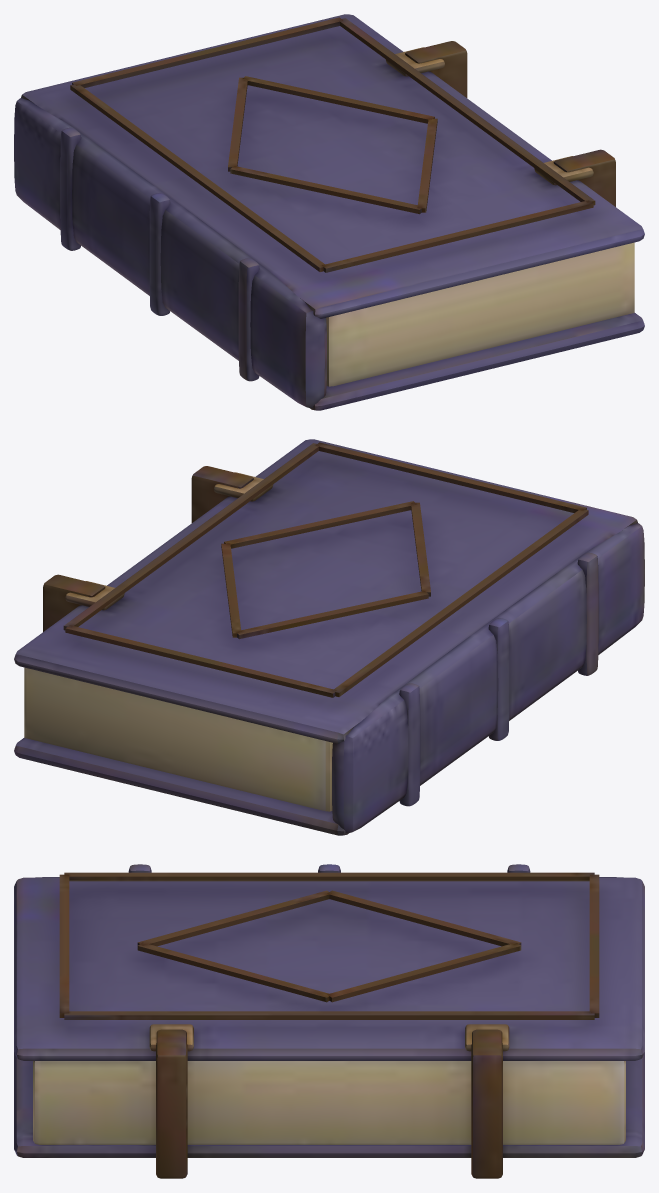
File: nicomachus.glb
3 renders of one model, top to bottom at view 1: azimuth 30°, elevation 25°; view 2: azimuth 150°, elevation 25°; view 3: azimuth 270°, elevation 25°, orthographic. The views are drawn at different scales.
Parts seen in each view (by area): view 1: nicomachus; view 2: nicomachus; view 3: nicomachus.
Part boxes in pixels (x1,y1,x2,y2): nicomachus: (14, 14, 644, 410); nicomachus: (14, 439, 644, 835); nicomachus: (14, 864, 644, 1178).
Size of the model in its own units: 0.149 by 0.0478 by 0.2.
Materials: 1 (1 with a texture image).
